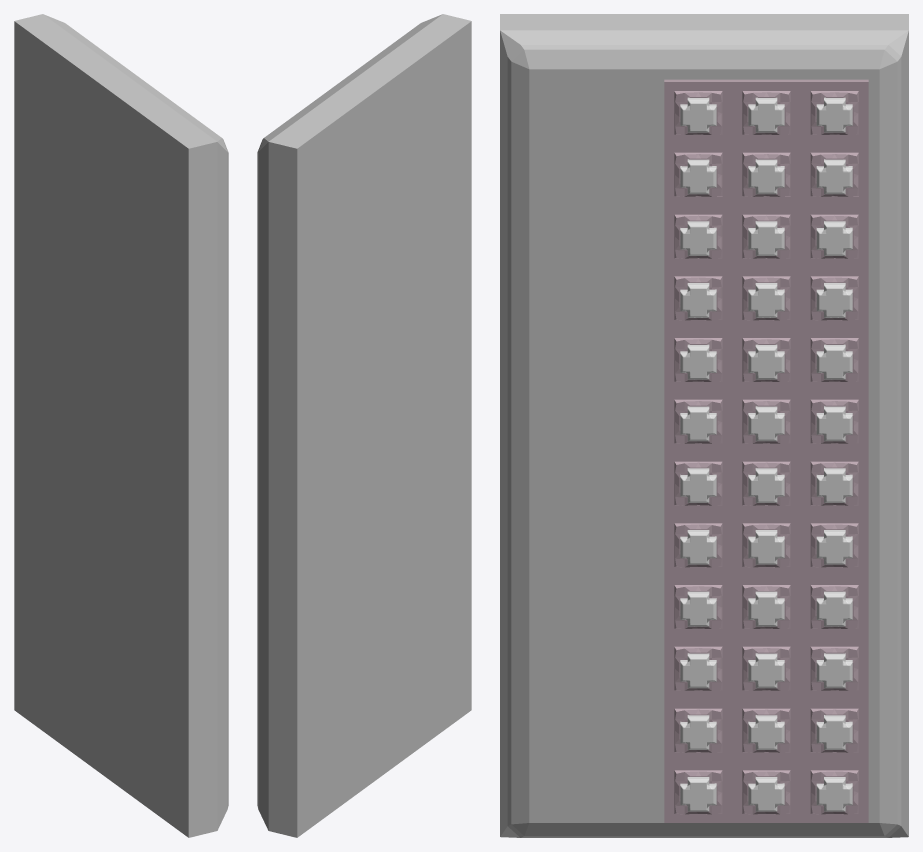
The model's file is e-button.fbx.
3 renders of one model, left to right at view 1: azimuth 30°, elevation 25°; view 2: azimuth 150°, elevation 25°; view 3: azimuth 270°, elevation 25°, orthographic. The views are drawn at different scales.
Parts seen in each view (by area): view 1: 더큰판때기; view 2: 더큰판때기; view 3: 더큰판때기, 판때기, 버튼.026, 버튼.027, 버튼.028, 버튼.029, 버튼.004, 버튼.005, 버튼.016, 버튼.017, 버튼.010, 버튼.011 (+26 smaller).
Part boxes in pixels (x1,y1,x2,y2): 더큰판때기: (14,14,228,837); 더큰판때기: (257,14,471,837); 더큰판때기: (500,14,908,837); 판때기: (664,79,868,822); 버튼.026: (748,591,784,626); 버튼.027: (680,591,716,626); 버튼.028: (680,653,716,688); 버튼.029: (748,653,784,688); 버튼.004: (680,159,716,194); 버튼.005: (748,159,784,194); 버튼.016: (680,406,716,441); 버튼.017: (748,406,784,441); 버튼.010: (680,283,716,317); 버튼.011: (748,283,784,317).
Bounding box in the file's own units: 249 × 2613 × 1200.
